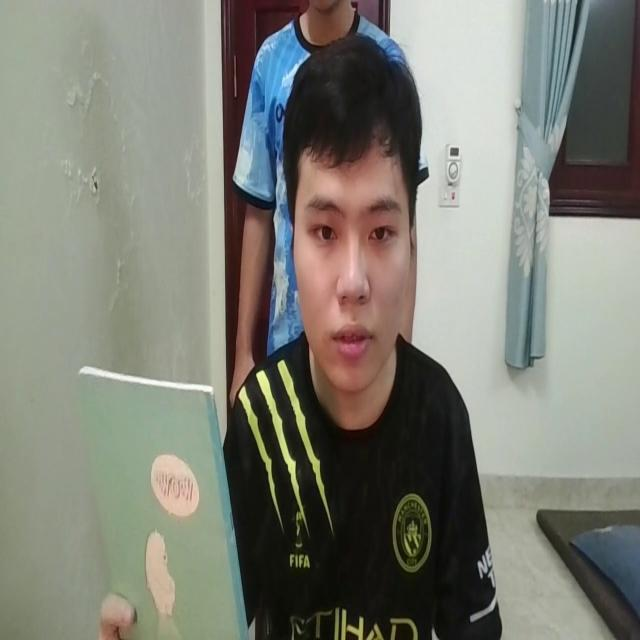book: (72, 341, 248, 640)
student: (227, 48, 496, 640)
